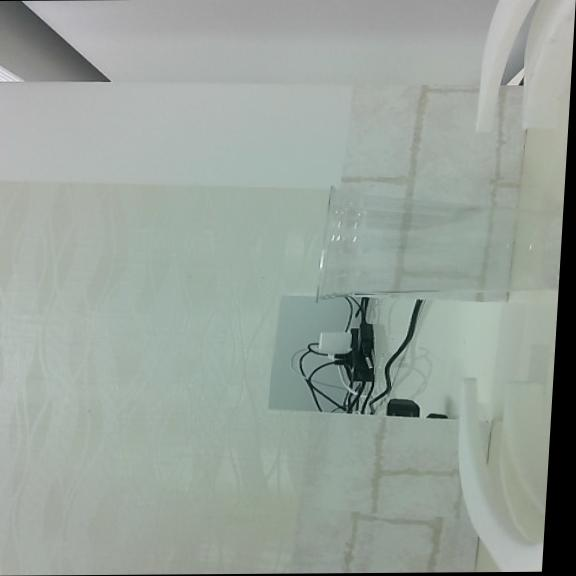Plastik: (318, 188, 560, 297)
